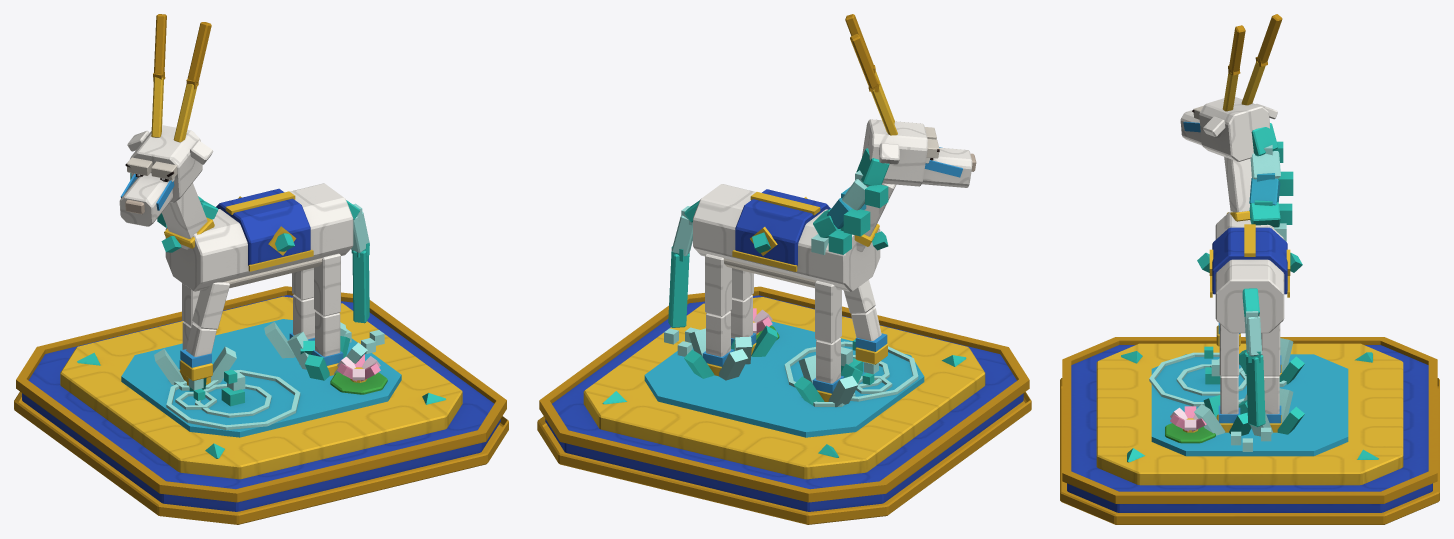
The model's file is SpringAntelope.fbx.
3 views of the same model, side by side, from view 1: azimuth 30°, elevation 25°; view 2: azimuth 150°, elevation 25°; view 3: azimuth 270°, elevation 25° (orthographic). The views are drawn at different scales.
Parts seen in each view (by area): view 1: Art_SpringAntelope_Stand, Art_SpringAntelope_Spring, Art_SpringAntelope_Body, Art_SpringAntelope_Head, Art_SpringAntelope_LegBL, Art_SpringAntelope_LegFL, Art_SpringAntelope_Tail, Art_SpringAntelope_LegBR, Art_SpringAntelope_LegFR; view 2: Art_SpringAntelope_Stand, Art_SpringAntelope_Spring, Art_SpringAntelope_Body, Art_SpringAntelope_Head, Art_SpringAntelope_LegFR, Art_SpringAntelope_LegBR, Art_SpringAntelope_Mane, Art_SpringAntelope_Tail, Art_SpringAntelope_LegFL, Art_SpringAntelope_LegBL; view 3: Art_SpringAntelope_Stand, Art_SpringAntelope_Spring, Art_SpringAntelope_Body, Art_SpringAntelope_Head, Art_SpringAntelope_Mane, Art_SpringAntelope_LegBL, Art_SpringAntelope_Tail, Art_SpringAntelope_LegBR, Art_SpringAntelope_LegFR.
Part boxes in pixels (left/top/right/bottom): Art_SpringAntelope_Stand: left=14, top=286, right=508, bottom=524; Art_SpringAntelope_Spring: left=121, top=319, right=401, bottom=437; Art_SpringAntelope_Body: left=161, top=183, right=353, bottom=291; Art_SpringAntelope_Head: left=119, top=14, right=213, bottom=226; Art_SpringAntelope_LegBL: left=287, top=253, right=367, bottom=380; Art_SpringAntelope_LegFL: left=180, top=282, right=229, bottom=400; Art_SpringAntelope_Tail: left=344, top=200, right=384, bottom=353; Art_SpringAntelope_LegBR: left=264, top=268, right=346, bottom=358; Art_SpringAntelope_LegFR: left=154, top=283, right=236, bottom=391; Art_SpringAntelope_Stand: left=537, top=286, right=1031, bottom=524; Art_SpringAntelope_Spring: left=644, top=308, right=924, bottom=437; Art_SpringAntelope_Body: left=693, top=183, right=895, bottom=291; Art_SpringAntelope_Head: left=845, top=14, right=976, bottom=187; Art_SpringAntelope_LegFR: left=794, top=280, right=862, bottom=407; Art_SpringAntelope_LegBR: left=684, top=254, right=753, bottom=380; Art_SpringAntelope_Mane: left=811, top=148, right=889, bottom=254; Art_SpringAntelope_Tail: left=664, top=200, right=699, bottom=356; Art_SpringAntelope_LegFL: left=843, top=279, right=887, bottom=384; Art_SpringAntelope_LegBL: left=730, top=268, right=777, bottom=364; Art_SpringAntelope_Stand: left=1060, top=337, right=1439, bottom=524; Art_SpringAntelope_Spring: left=1149, top=346, right=1348, bottom=456; Art_SpringAntelope_Body: left=1197, top=157, right=1302, bottom=333; Art_SpringAntelope_Head: left=1180, top=14, right=1282, bottom=161; Art_SpringAntelope_Mane: left=1249, top=123, right=1293, bottom=241; Art_SpringAntelope_LegBL: left=1194, top=324, right=1251, bottom=435; Art_SpringAntelope_Tail: left=1231, top=288, right=1271, bottom=451; Art_SpringAntelope_LegBR: left=1238, top=324, right=1304, bottom=436; Art_SpringAntelope_LegFR: left=1239, top=338, right=1304, bottom=384.
Bounding box in the file's own units: 3.32 × 3.77 × 3.32.
